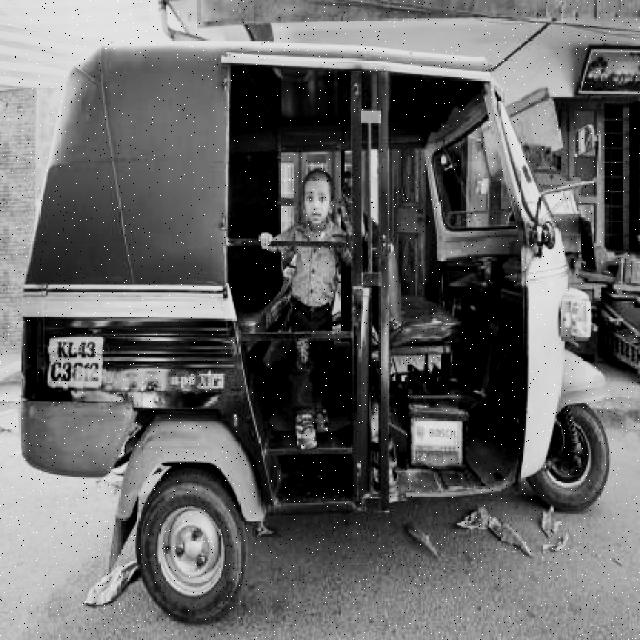Auto-Rickshaw: (29, 40, 616, 630)
